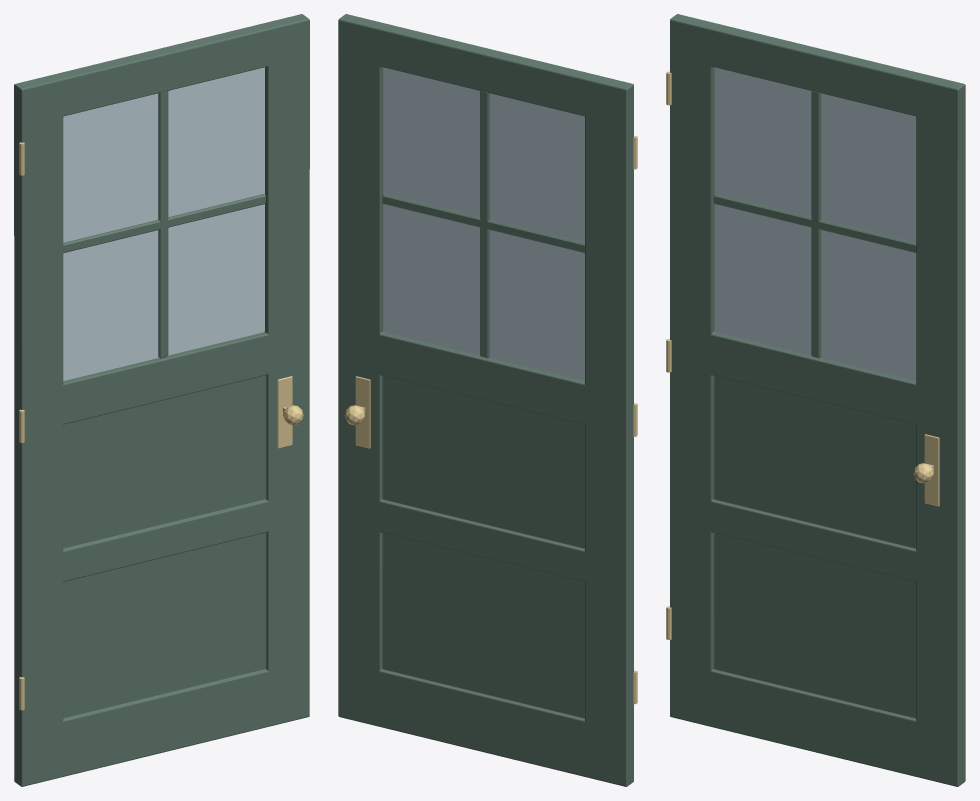
The model's file is door_leaf_back.glb.
The picture shows the model from 3 angles, left to right: view 1: azimuth 30°, elevation 25°; view 2: azimuth 150°, elevation 25°; view 3: azimuth 330°, elevation 25°; orthographic projection.
Parts seen in each view (by area): view 1: door_leaf_back_door, door_leaf_back_glass, door_leaf_back_brass; view 2: door_leaf_back_door, door_leaf_back_glass, door_leaf_back_brass; view 3: door_leaf_back_door, door_leaf_back_glass, door_leaf_back_brass.
Boxes of the visible parts, x1,y1,x2,y2 form: door_leaf_back_door: [14, 14, 309, 786]; door_leaf_back_glass: [63, 67, 264, 380]; door_leaf_back_brass: [19, 142, 303, 710]; door_leaf_back_door: [338, 14, 633, 786]; door_leaf_back_glass: [383, 67, 584, 380]; door_leaf_back_brass: [344, 135, 637, 704]; door_leaf_back_door: [670, 14, 965, 786]; door_leaf_back_glass: [714, 67, 916, 380]; door_leaf_back_brass: [666, 71, 939, 639].
Size of the model in its own units: 0.968 by 2.22 by 0.205.
